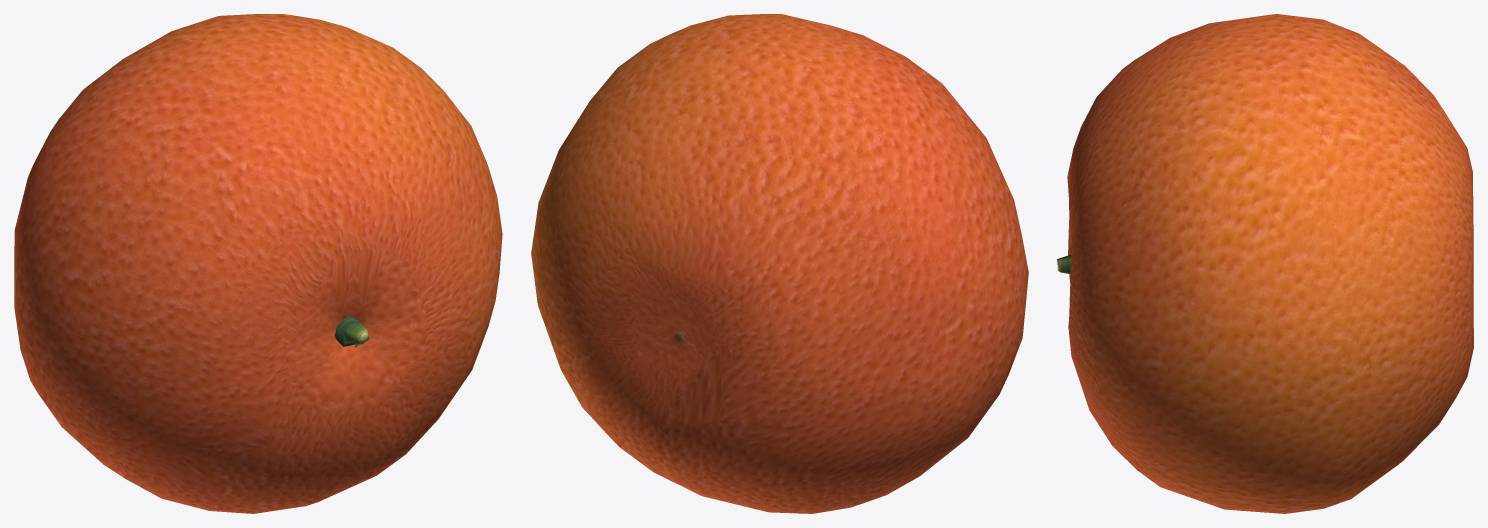
The model's file is orange.obj.
3 renders of one model, left to right at view 1: azimuth 30°, elevation 25°; view 2: azimuth 150°, elevation 25°; view 3: azimuth 270°, elevation 25°, orthographic.
Visible parts, largest first — view 1: orange.002; view 2: orange.002; view 3: orange.002.
Part boxes in pixels (left/top/right/bottom): orange.002: left=14, top=14, right=502, bottom=513; orange.002: left=531, top=14, right=1028, bottom=513; orange.002: left=1057, top=14, right=1473, bottom=513.
Bounding box in the file's own units: 9.53 × 9.56 × 7.86.
Materials: 1 (1 with a texture image).
